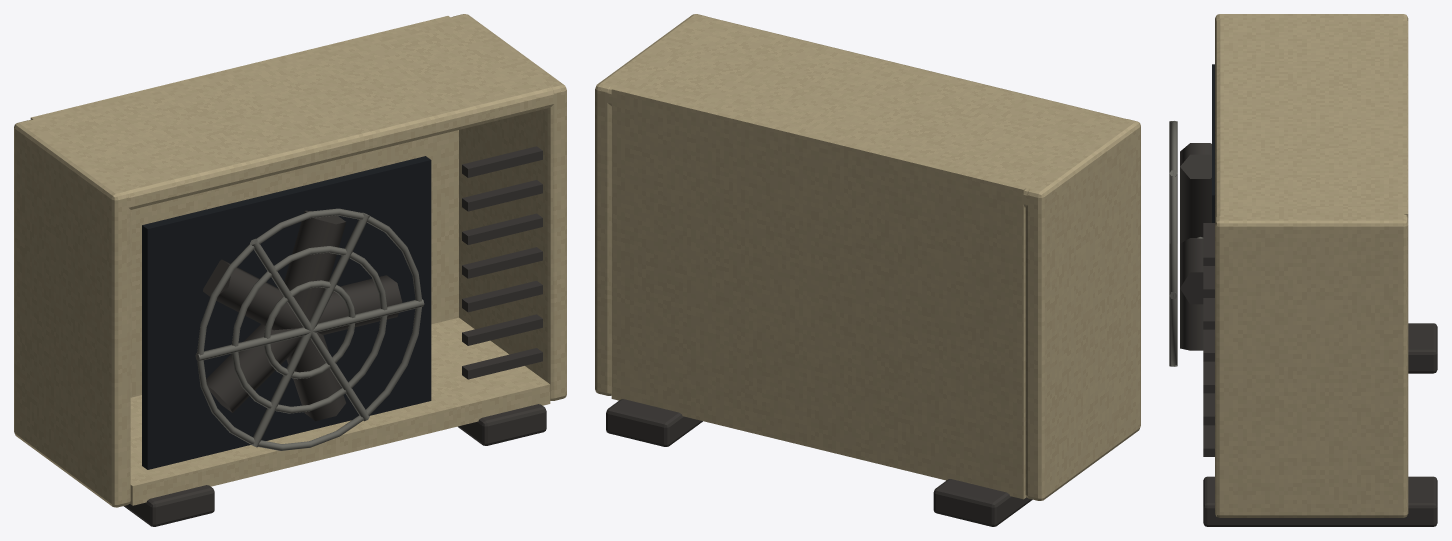
The model's file is MS_SP_18_ACCondenser.glb.
The picture shows the model from 3 angles, left to right: view 1: azimuth 30°, elevation 25°; view 2: azimuth 150°, elevation 25°; view 3: azimuth 270°, elevation 25°; orthographic projection. The views are drawn at different scales.
Visible parts, largest first — view 1: Back.003, FanRecess, Grille, FanBlade, MountFoot; view 2: Back.003, MountFoot; view 3: Back.003, MountFoot, FanBlade, Grille, FanRecess.
Boxes of the visible parts, x1,y1,x2,y2 form: Back.003: [14, 14, 566, 507]; FanRecess: [142, 156, 431, 469]; Grille: [195, 208, 424, 450]; FanBlade: [203, 210, 402, 420]; MountFoot: [123, 146, 546, 526]; Back.003: [595, 14, 1140, 500]; MountFoot: [606, 399, 1032, 526]; Back.003: [1215, 14, 1408, 517]; MountFoot: [1203, 223, 1437, 526]; FanBlade: [1180, 143, 1211, 350]; Grille: [1169, 121, 1177, 366]; FanRecess: [1212, 64, 1214, 222].
Bounding box in the file's own units: 0.85 × 0.6 × 0.458.
Materials: 4 (1 with a texture image).
